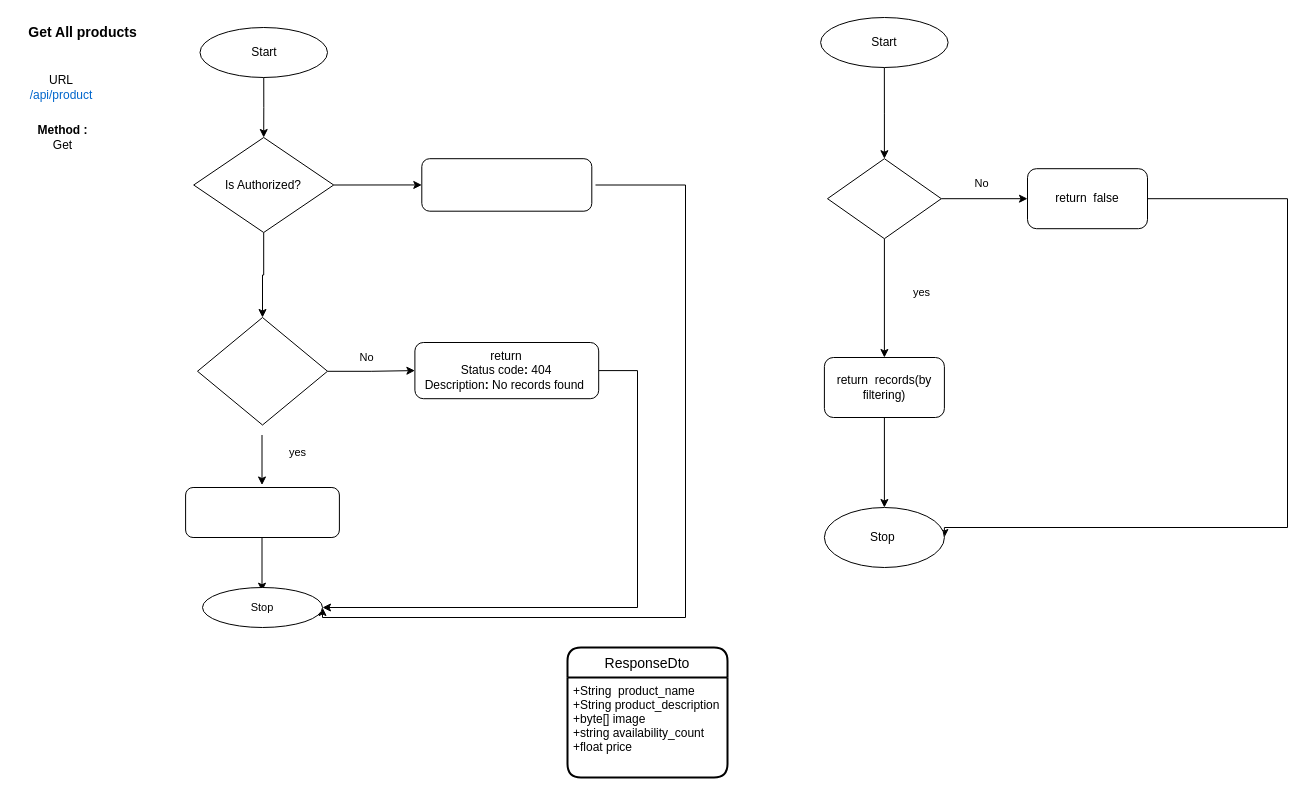
The diagram is 1313 pixels wide and 796 high, and some of its shapes have lost their labels. The centre of each missing label's shape, as x and y in pixels:
"call GetAllproducts()" goes at point (262, 370).
"checks product found" goes at point (883, 198).
"return Status code : 200 responseDto" goes at point (262, 512).
"return Status code: 401 Description: Unauthorized" goes at point (506, 184).
